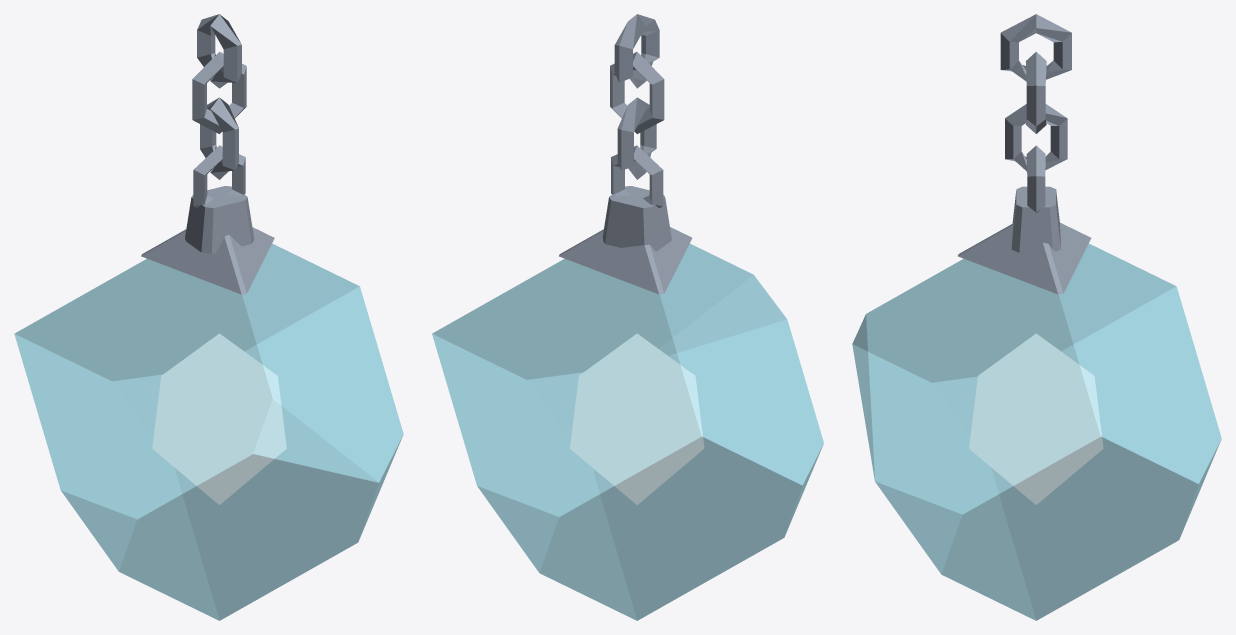
Rendered from IceCube.fbx.
The picture shows the model from 3 angles, left to right: view 1: azimuth 30°, elevation 25°; view 2: azimuth 150°, elevation 25°; view 3: azimuth 270°, elevation 25°; orthographic projection.
Visible parts, largest first — view 1: Body, Neon, Clasp, Chain; view 2: Body, Neon, Clasp, Chain; view 3: Body, Neon, Clasp, Chain.
Part boxes in pixels (bbox=[...]): Body: bbox=[14, 243, 403, 620]; Neon: bbox=[152, 333, 286, 504]; Clasp: bbox=[141, 145, 274, 294]; Chain: bbox=[192, 14, 246, 179]; Body: bbox=[432, 243, 823, 620]; Neon: bbox=[570, 333, 704, 504]; Clasp: bbox=[559, 145, 692, 294]; Chain: bbox=[610, 14, 664, 179]; Body: bbox=[852, 243, 1221, 620]; Neon: bbox=[969, 333, 1103, 504]; Clasp: bbox=[958, 145, 1091, 294]; Chain: bbox=[1000, 14, 1071, 171].
Size of the model in its own units: 0.2526 by 0.4376 by 0.2414.
